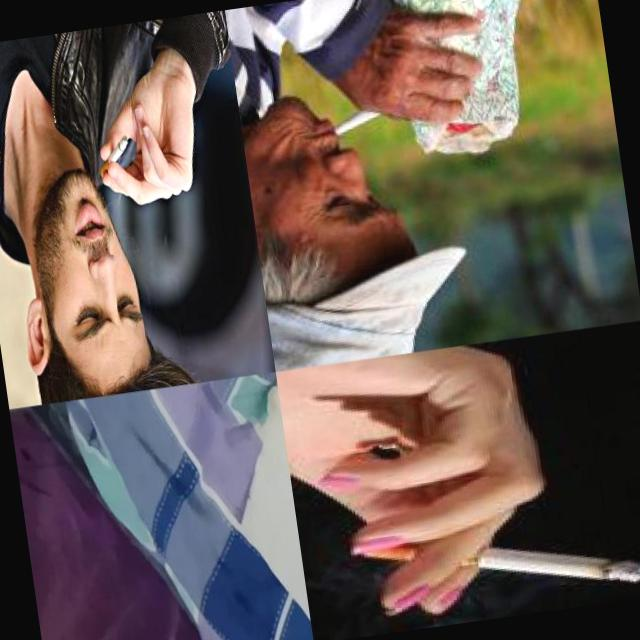smoke: (358, 502, 640, 619), (316, 108, 398, 142), (93, 136, 135, 182)
